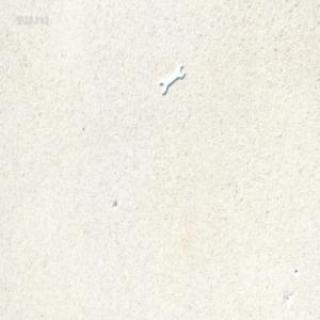Wrenchtrack_idkeyframe: (158, 62, 184, 94)
